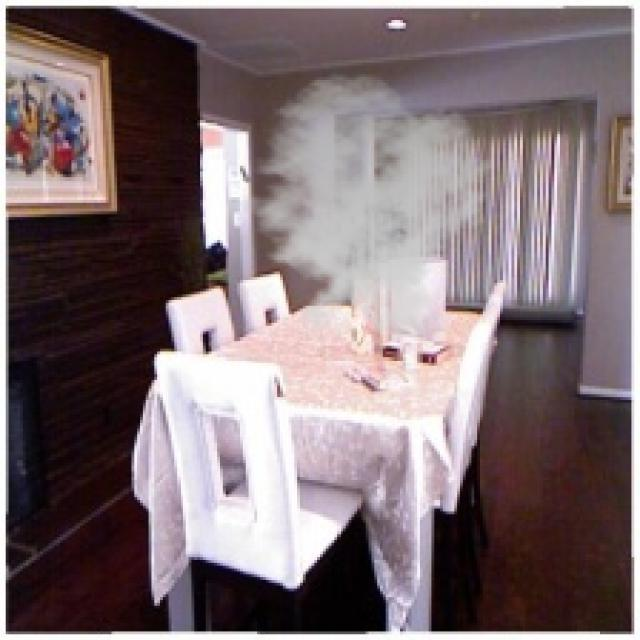Smoke: (222, 71, 498, 343)
